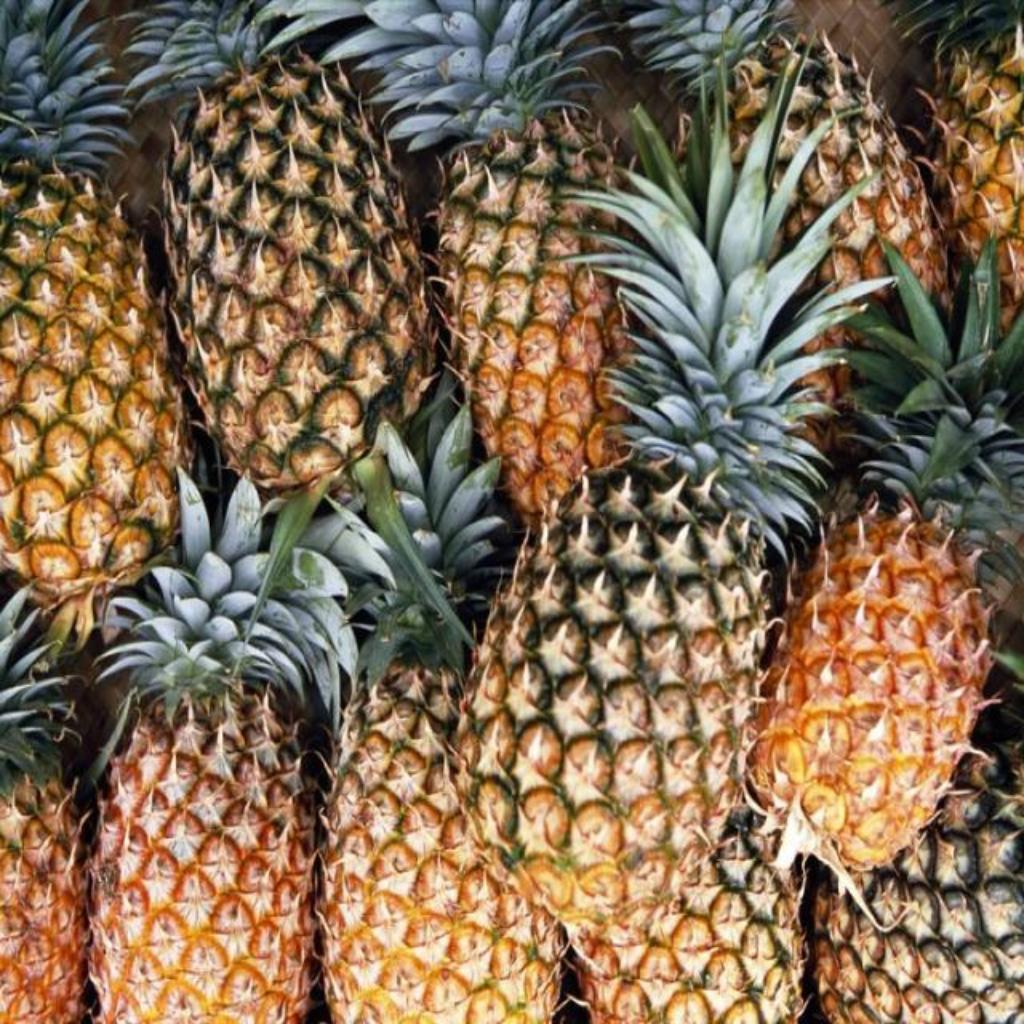pineapple: (456, 75, 870, 923), (276, 0, 628, 527), (752, 243, 1024, 895), (304, 376, 564, 1021), (130, 0, 436, 496), (130, 0, 434, 496), (92, 469, 356, 1021), (0, 0, 188, 644), (810, 707, 1024, 1021), (570, 805, 804, 1021), (778, 37, 944, 292), (0, 589, 88, 1020), (626, 0, 790, 161)
